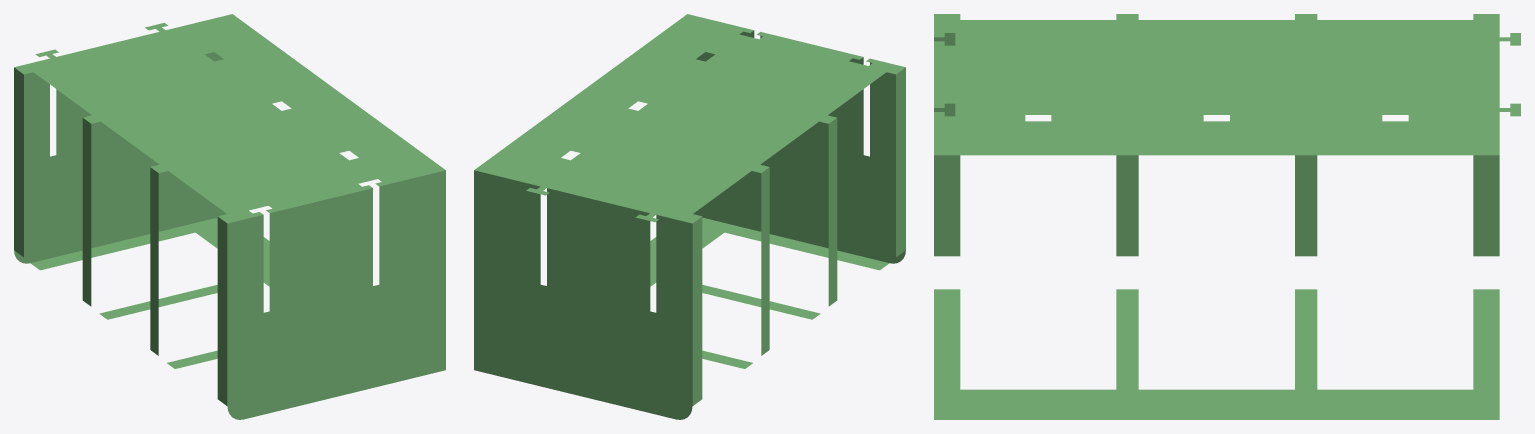
The model's file is zatana_terra_base_vis_59.dae.
3 views of the same model, side by side, from view 1: azimuth 30°, elevation 25°; view 2: azimuth 150°, elevation 25°; view 3: azimuth 270°, elevation 25° (orthographic). The views are drawn at different scales.
Parts seen in each view (by area): view 1: Node_000002318374C350; view 2: Node_000002318374C350; view 3: Node_000002318374C350.
Boxes of the visible parts, x1=… form: Node_000002318374C350: x1=14, y1=14, x2=445, y2=419; Node_000002318374C350: x1=474, y1=14, x2=905, y2=419; Node_000002318374C350: x1=934, y1=14, x2=1520, y2=419.
Bounding box in the file's own units: 0.014 × 0.0122 × 0.0245.
